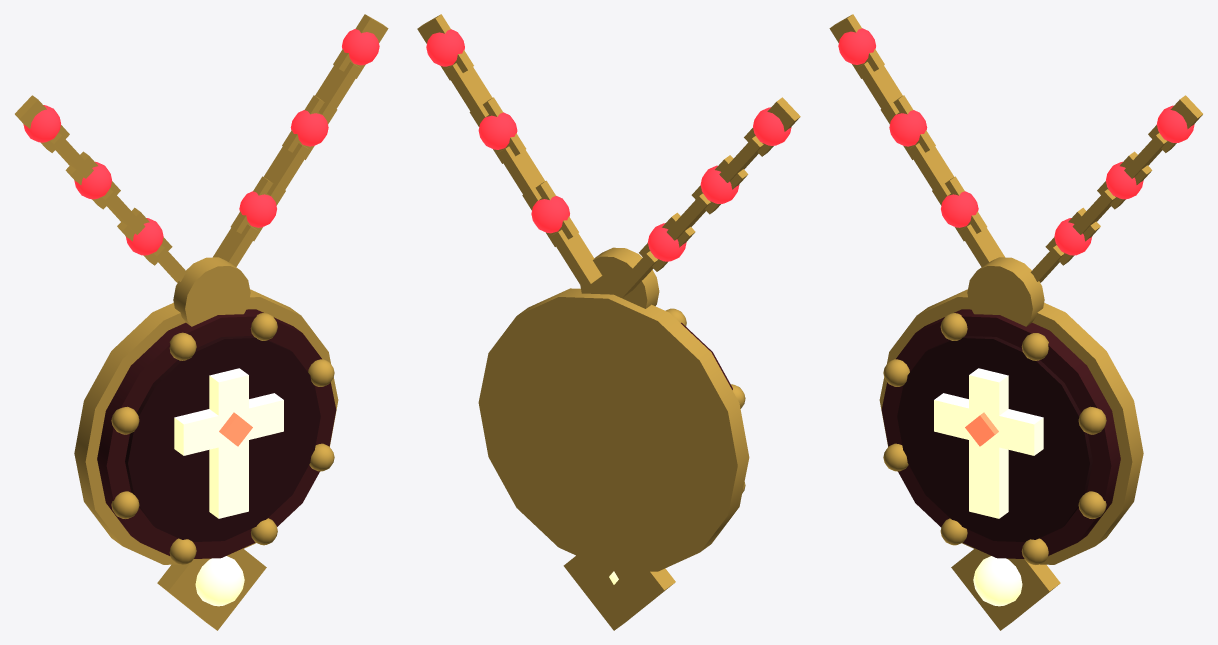
3 renders of one model, left to right at view 1: azimuth 30°, elevation 25°; view 2: azimuth 150°, elevation 25°; view 3: azimuth 330°, elevation 25°, orthographic. The views are drawn at different scales.
Visible parts, largest first — view 1: ember-rosary; view 2: ember-rosary; view 3: ember-rosary.
Part boxes in pixels (x1,y1,x2,y2): ember-rosary: (15,14,388,630); ember-rosary: (417,14,800,630); ember-rosary: (829,14,1202,630).
Size of the model in its own units: 0.2325 by 0.3393 by 0.0504.
